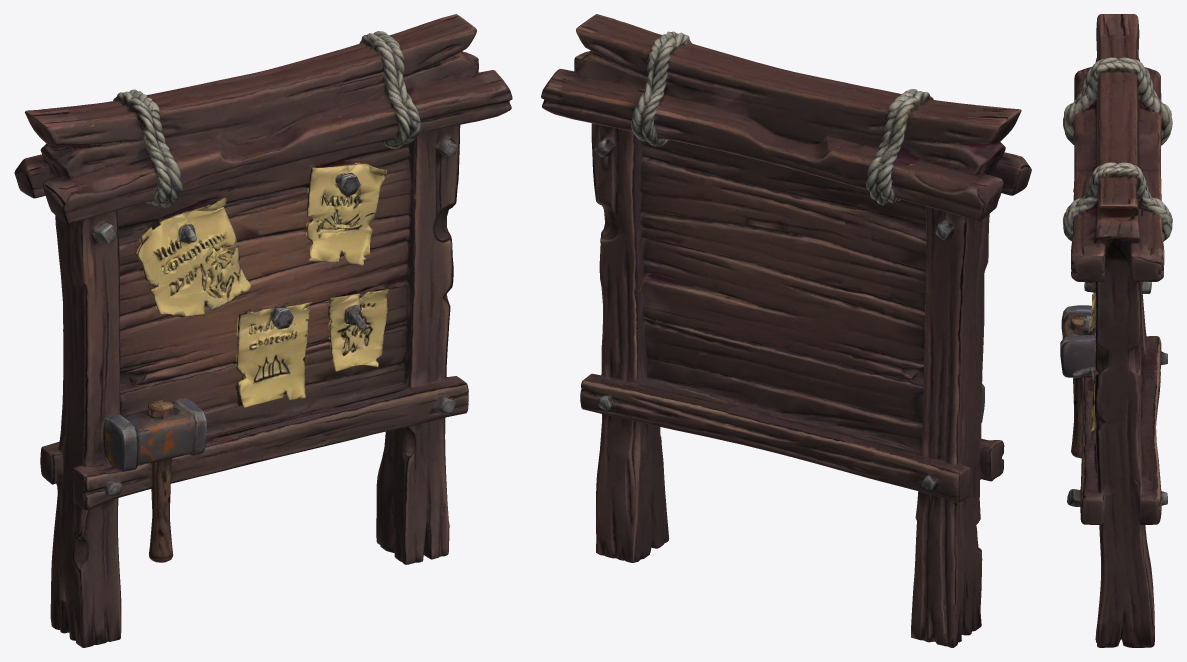
The model's file is bulletin_board.glb.
3 views of the same model, side by side, from view 1: azimuth 30°, elevation 25°; view 2: azimuth 150°, elevation 25°; view 3: azimuth 270°, elevation 25° (orthographic). The views are drawn at different scales.
Bounding box in the file's own units: 1.69 × 1.9 × 0.4141.
Materials: 1 (1 with a texture image).
